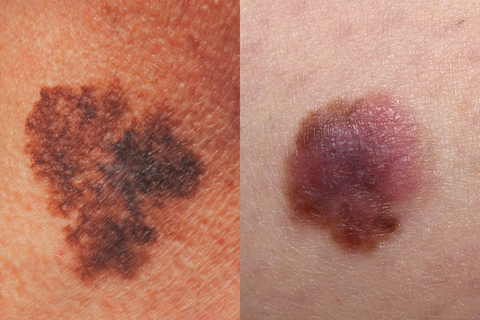melanoma: (24, 66, 220, 300)
